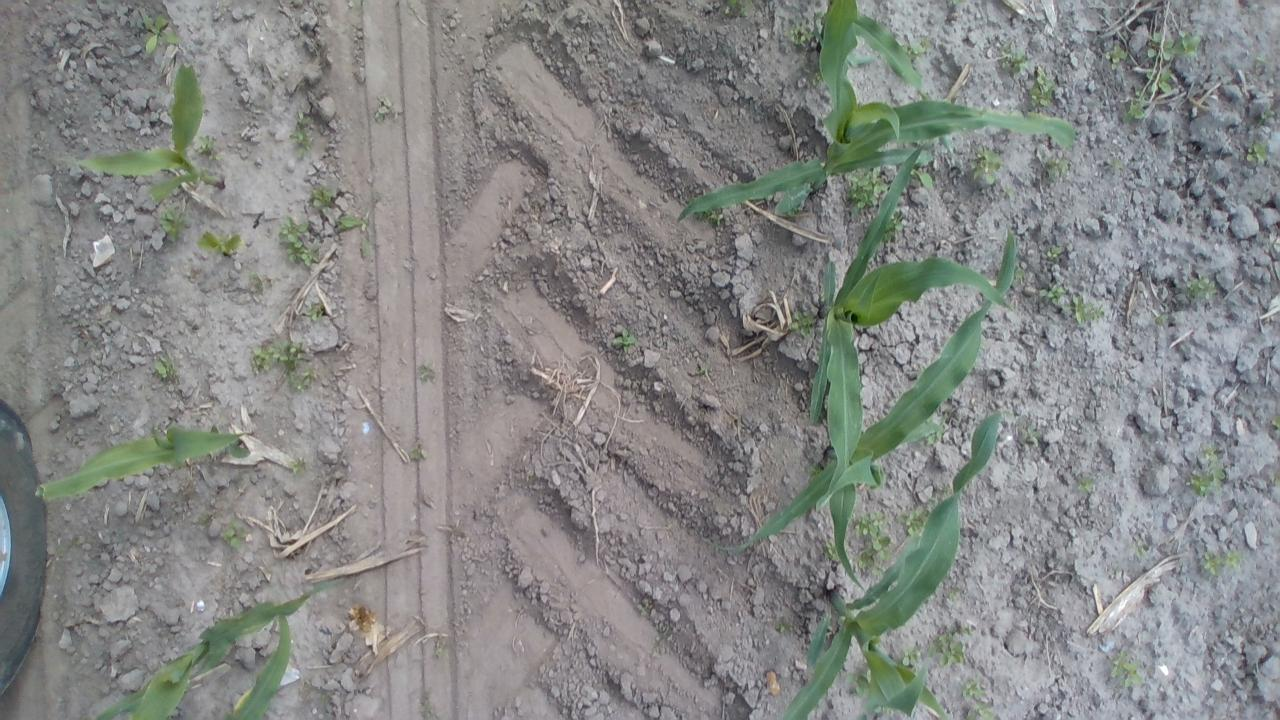Maize: (712, 228, 1024, 565), (685, 0, 1086, 220), (766, 406, 1010, 720), (803, 143, 1007, 505), (75, 578, 350, 720), (71, 57, 229, 210), (31, 426, 258, 504)
Weeds: (1141, 28, 1203, 104), (249, 336, 317, 392), (1039, 280, 1104, 326), (851, 511, 894, 580), (331, 207, 379, 255), (138, 14, 184, 57), (278, 219, 321, 264), (1186, 448, 1227, 494), (954, 677, 997, 720), (842, 168, 888, 208), (1184, 272, 1228, 312), (1112, 646, 1148, 690), (968, 148, 1005, 190), (1024, 66, 1054, 116), (200, 230, 248, 260), (282, 114, 312, 162), (1200, 546, 1244, 578), (929, 632, 969, 665), (999, 40, 1031, 78), (782, 307, 818, 339), (158, 206, 190, 242), (898, 506, 930, 541), (307, 184, 340, 214), (786, 21, 821, 49), (841, 668, 876, 696), (149, 354, 179, 386), (1124, 93, 1152, 126), (1044, 149, 1072, 180), (904, 33, 934, 59), (896, 641, 926, 667), (220, 518, 246, 548), (823, 541, 855, 565), (242, 272, 274, 296), (1242, 138, 1271, 164), (413, 697, 445, 720), (414, 355, 438, 385), (1072, 473, 1100, 497), (1102, 46, 1132, 68), (610, 326, 635, 352), (882, 217, 907, 242), (690, 357, 714, 382), (406, 439, 430, 464), (306, 299, 330, 324), (194, 132, 216, 158), (368, 98, 388, 126), (430, 636, 452, 660), (1020, 418, 1040, 444), (698, 212, 728, 229), (288, 458, 316, 475), (1102, 156, 1128, 173), (1256, 106, 1274, 126), (1043, 246, 1061, 262), (1269, 415, 1280, 435)
